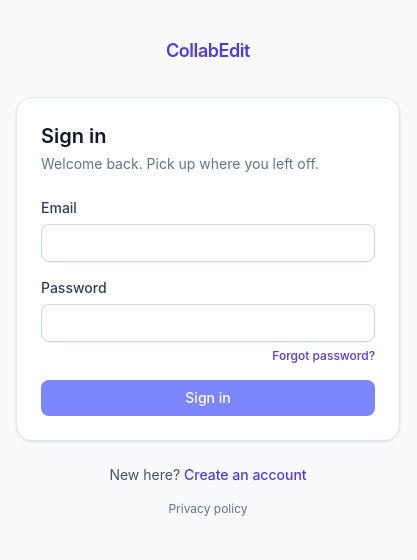
authentication flow › explains wrong credentials without saying which part was wrong
Type "ada@example.com" into the field labelled "Email" at (208,243), box [41,224,375,262]
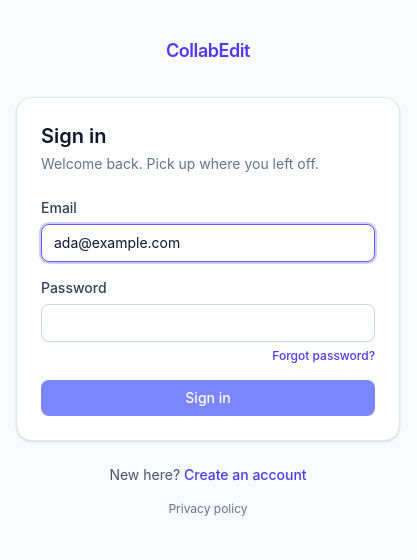
Type "nope nope nope" into the password field labelled "Password" at (208,323), box [41,304,375,342]
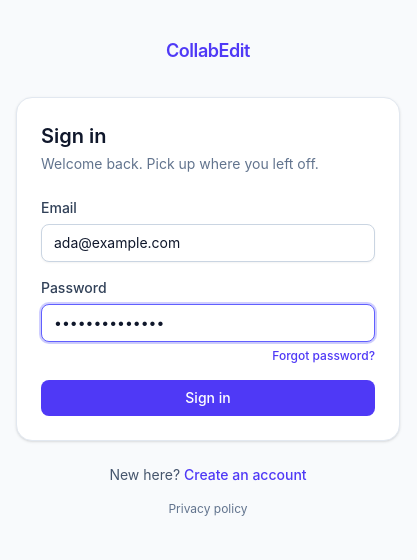
Click the button "Sign in" at (208,398), box [41,380,375,416]
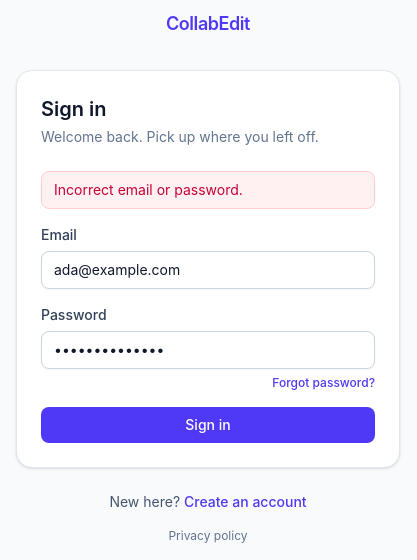
Expected: the message reads "Incorrect email or password.", [54,181,243,198]
